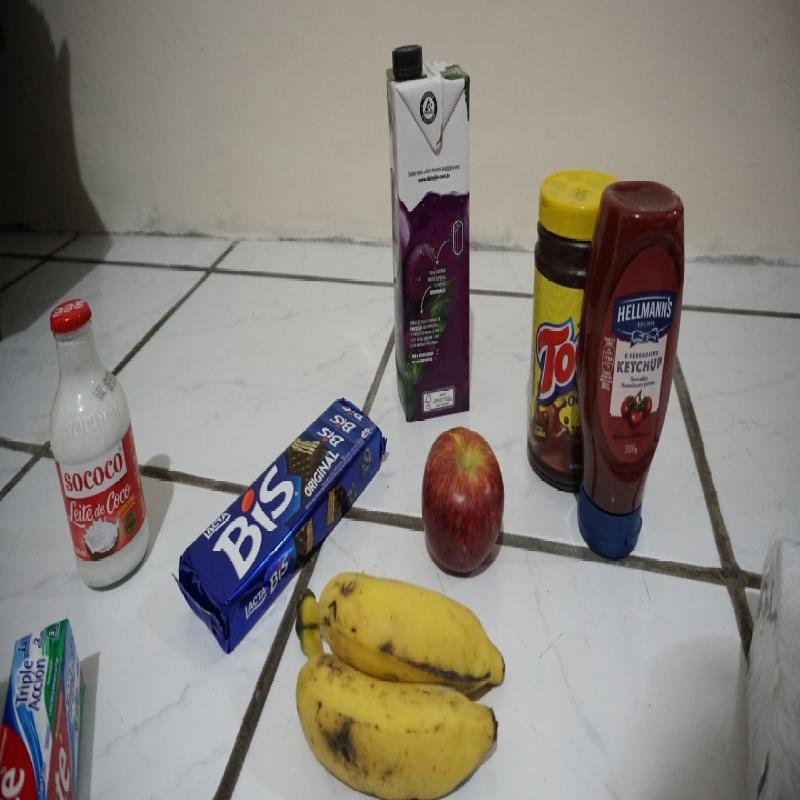Apple: (419, 423, 506, 581)
Banana: (295, 574, 506, 798)
Chocolate Powder: (524, 165, 596, 494)
Coconut Milk: (42, 299, 152, 594)
Ketchup: (576, 175, 688, 558)
Toothpaste: (0, 618, 88, 800)
